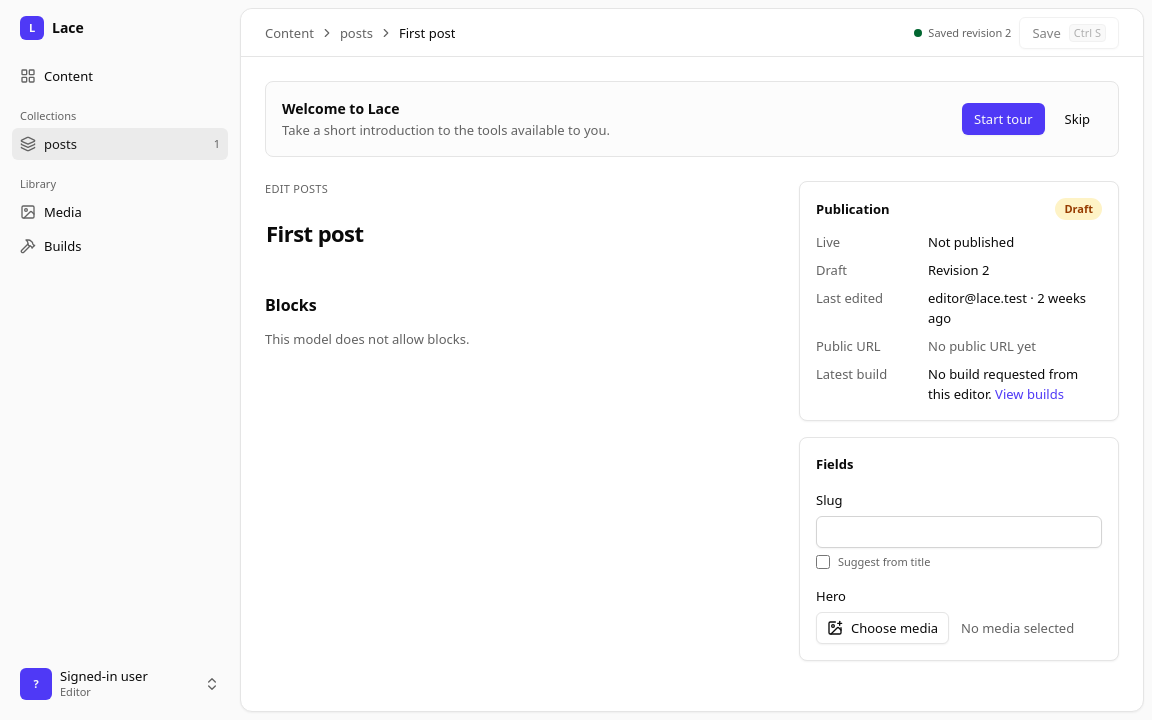
it: the picker dialog reuses a later page and choosing returns focus to Replace
Check: the heading "Edit posts" is shown, box 265,181 -> 328,196
Check: the text "No media selected" is shown, box 961,618 -> 1074,638
Click the button with aria-label "Choose media for Hero" at [883, 628], box 816,612 -> 949,644
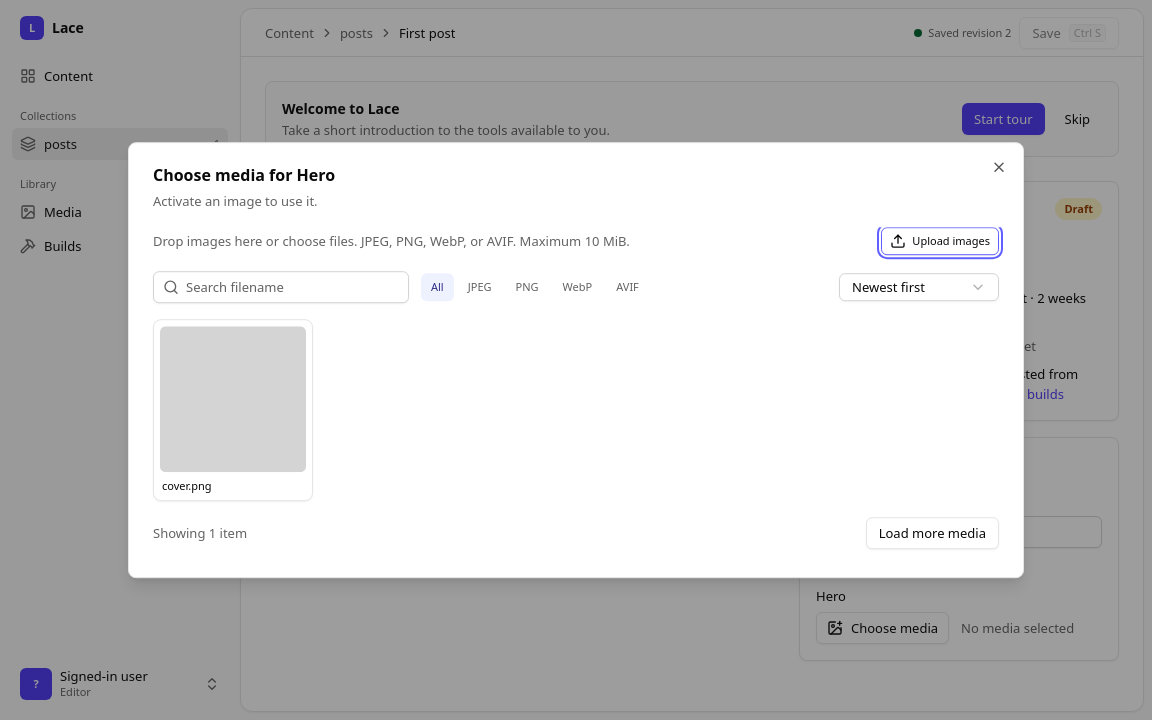
Click the button "Load more media" at [932, 533], box 866,517 -> 999,549
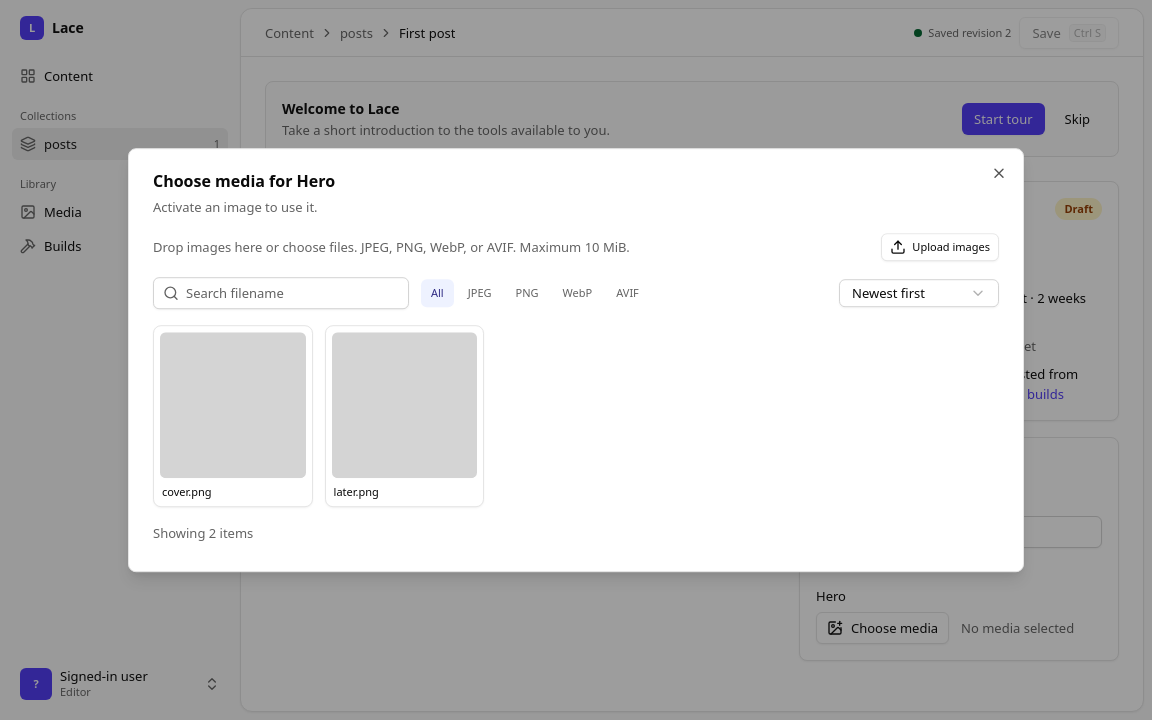
Click the button "later.png" at [404, 416], box 325,325 -> 484,507
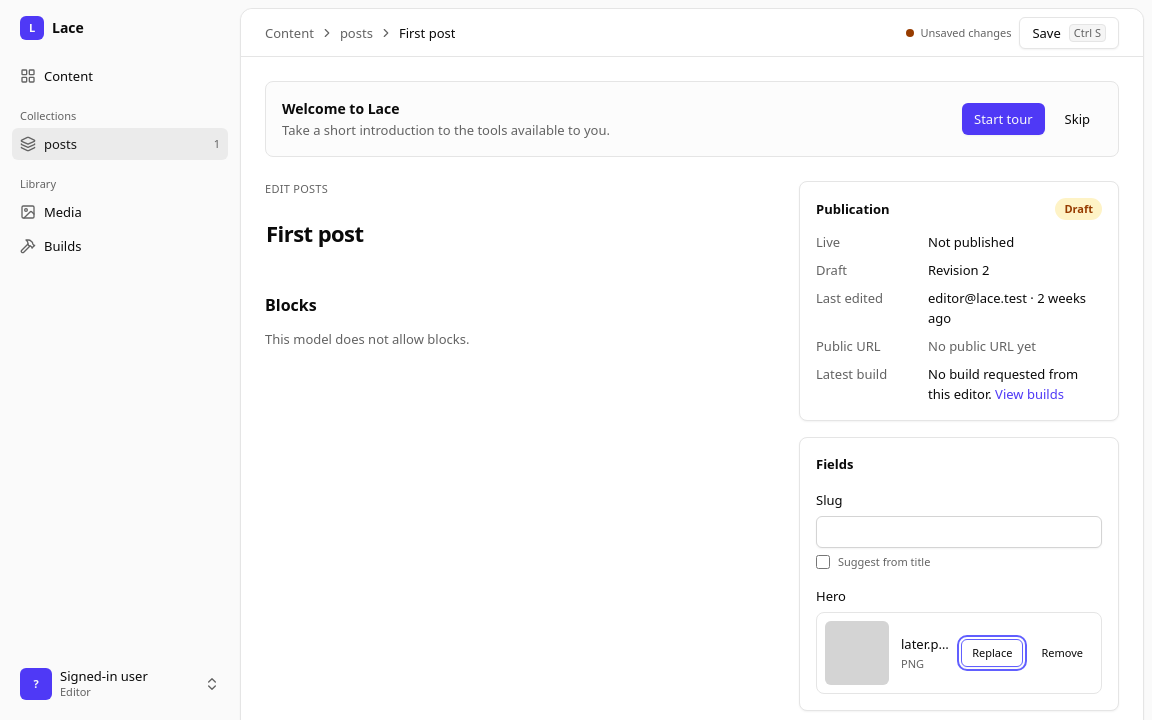
Check: the text "later.png" is shown, box 901,634 -> 949,654
Check: the dialog is gone
